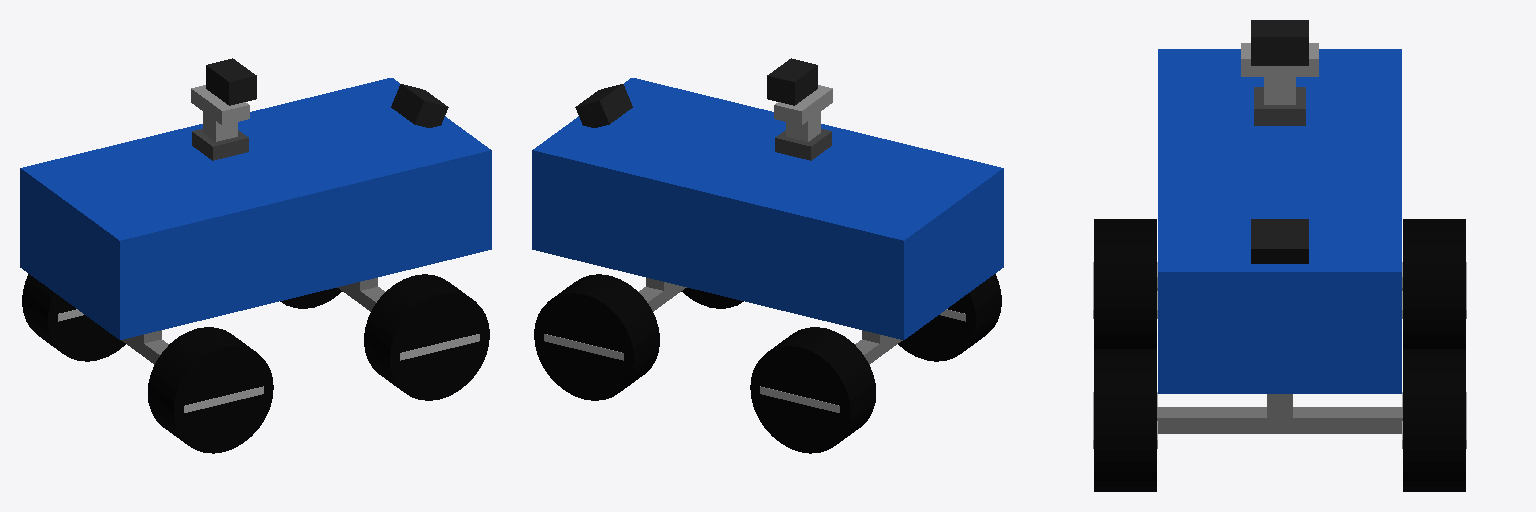
The robot description file, URDF, robot "xtnetrc":
<?xml version="1.0" ?>
<!-- =================================================================================== -->
<!-- |    This document was autogenerated by xacro from /home/jamiek/remote5g_ws/src/remote5g_sim/urdf/car.xacro | -->
<!-- |    EDITING THIS FILE BY HAND IS NOT RECOMMENDED                                 | -->
<!-- =================================================================================== -->
<robot name="xtnetrc">
	<link name="base_footprint">
		<inertial>
			<mass value="0.001"/>
			<inertia ixx="0.000001" ixy="0" ixz="0" iyy="0.000001" iyz="0" izz="0.000001"/>
		</inertial>
	</link>
	<link name="base_link">
		<inertial>
			<origin xyz="0.119305 0 0.115"/>
			<mass value="3.0"/>
			<inertia ixx="0.01178125" ixy="0" ixz="0" iyy="0.044781249999999995" iyz="0" izz="0.05104999999999999"/>
		</inertial>
		<visual>
			<origin xyz="0.119305 0 0.115"/>
			<geometry>
				<box size="0.41 0.19 0.105"/>
			</geometry>
			<material name="base_link_material">
				<color rgba="0.1 0.35 0.75 1"/>
			</material>
		</visual>
		<collision>
			<origin xyz="0.119305 0 0.115"/>
			<geometry>
				<box size="0.41 0.19 0.105"/>
			</geometry>
		</collision>
	</link>
	<joint name="base_joint" type="fixed">
		<parent link="base_footprint"/>
		<child link="base_link"/>
		<origin rpy="0 0 0" xyz="0 0 0.055315"/>
	</joint>
	<gazebo reference="base_joint">
		<preserveFixedJoint>true</preserveFixedJoint>
	</gazebo>
	<gazebo reference="base_link">
		<material>Gazebo/Blue</material>
	</gazebo>
	<link name="rear_axle_beam">
		<inertial>
			<origin xyz="0 0 0"/>
			<mass value="0.04"/>
			<inertia ixx="0.00016198666666666667" ixy="0" ixz="0" iyy="1.986666666666667e-06" iyz="0" izz="0.00016266666666666667"/>
		</inertial>
		<visual>
			<origin xyz="0 0 0"/>
			<geometry>
				<box size="0.02 0.22 0.014"/>
			</geometry>
			<material name="rear_axle_beam_material">
				<color rgba="0.5 0.5 0.5 1"/>
			</material>
		</visual>
		<collision>
			<origin xyz="0 0 0"/>
			<geometry>
				<box size="0.02 0.22 0.014"/>
			</geometry>
		</collision>
	</link>
	<joint name="rear_axle_beam_mount" type="fixed">
		<parent link="base_link"/>
		<child link="rear_axle_beam"/>
		<origin rpy="0 0 0" xyz="0 0 0"/>
	</joint>
	<link name="rear_axle_post">
		<inertial>
			<origin xyz="0 0 0"/>
			<mass value="0.03"/>
			<inertia ixx="1.3250000000000002e-05" ixy="0" ixz="0" iyy="1.3250000000000002e-05" iyz="0" izz="2e-06"/>
		</inertial>
		<visual>
			<origin xyz="0 0 0"/>
			<geometry>
				<box size="0.02 0.02 0.07"/>
			</geometry>
			<material name="rear_axle_post_material">
				<color rgba="0.5 0.5 0.5 1"/>
			</material>
		</visual>
		<collision>
			<origin xyz="0 0 0"/>
			<geometry>
				<box size="0.02 0.02 0.07"/>
			</geometry>
		</collision>
	</link>
	<joint name="rear_axle_post_mount" type="fixed">
		<parent link="base_link"/>
		<child link="rear_axle_post"/>
		<origin rpy="0 0 0" xyz="0 0 0.035"/>
	</joint>
	<link name="front_axle_beam">
		<inertial>
			<origin xyz="0 0 0"/>
			<mass value="0.04"/>
			<inertia ixx="0.00016198666666666667" ixy="0" ixz="0" iyy="1.986666666666667e-06" iyz="0" izz="0.00016266666666666667"/>
		</inertial>
		<visual>
			<origin xyz="0 0 0"/>
			<geometry>
				<box size="0.02 0.22 0.014"/>
			</geometry>
			<material name="front_axle_beam_material">
				<color rgba="0.5 0.5 0.5 1"/>
			</material>
		</visual>
		<collision>
			<origin xyz="0 0 0"/>
			<geometry>
				<box size="0.02 0.22 0.014"/>
			</geometry>
		</collision>
	</link>
	<joint name="front_axle_beam_mount" type="fixed">
		<parent link="base_link"/>
		<child link="front_axle_beam"/>
		<origin rpy="0 0 0" xyz="0.23861 0 0"/>
	</joint>
	<link name="front_axle_post">
		<inertial>
			<origin xyz="0 0 0"/>
			<mass value="0.03"/>
			<inertia ixx="1.3250000000000002e-05" ixy="0" ixz="0" iyy="1.3250000000000002e-05" iyz="0" izz="2e-06"/>
		</inertial>
		<visual>
			<origin xyz="0 0 0"/>
			<geometry>
				<box size="0.02 0.02 0.07"/>
			</geometry>
			<material name="front_axle_post_material">
				<color rgba="0.5 0.5 0.5 1"/>
			</material>
		</visual>
		<collision>
			<origin xyz="0 0 0"/>
			<geometry>
				<box size="0.02 0.02 0.07"/>
			</geometry>
		</collision>
	</link>
	<joint name="front_axle_post_mount" type="fixed">
		<parent link="base_link"/>
		<child link="front_axle_post"/>
		<origin rpy="0 0 0" xyz="0.23861 0 0.035"/>
	</joint>
	<link name="front_left_knuckle">
		<inertial>
			<origin xyz="0 0 0"/>
			<mass value="0.06"/>
			<inertia ixx="6.119999999999999e-06" ixy="0" ixz="0" iyy="6.119999999999999e-06" iyz="0" izz="3.2399999999999995e-06"/>
		</inertial>
		<visual>
			<origin xyz="0 0 0"/>
			<geometry>
				<box size="0.018 0.018 0.03"/>
			</geometry>
			<material name="front_left_knuckle_material">
				<color rgba="0.2 0.3 0.8 1"/>
			</material>
		</visual>
		<collision>
			<origin xyz="0 0 0"/>
			<geometry>
				<box size="0.018 0.018 0.03"/>
			</geometry>
		</collision>
	</link>
	<joint name="front_left_steering_joint" type="revolute">
		<parent link="base_link"/>
		<child link="front_left_knuckle"/>
		<origin xyz="0.23861 0.12 0"/>
		<axis xyz="0 0 1"/>
		<limit effort="1.0" lower="-0.6" upper="0.6" velocity="4"/>
		<dynamics damping="0.01"/>
	</joint>
	<link name="front_left_wheel">
		<inertial>
			<mass value="0.18"/>
			<inertia ixx="0.000174472171125" ixy="0" ixz="0" iyy="0.00027537743025" iyz="0" izz="0.000174472171125"/>
		</inertial>
		<visual>
			<origin rpy="1.5707963267948966 0 0"/>
			<geometry>
				<cylinder length="0.04952" radius="0.055315"/>
			</geometry>
			<material name="rubber">
				<color rgba="0.06 0.06 0.06 1"/>
			</material>
		</visual>
		<visual>
			<geometry>
				<box size="0.08850400000000001 0.05052 0.008"/>
			</geometry>
			<material name="rim">
				<color rgba="0.7 0.7 0.7 1"/>
			</material>
		</visual>
		<collision>
			<origin rpy="1.5707963267948966 0 0"/>
			<geometry>
				<cylinder length="0.04952" radius="0.055315"/>
			</geometry>
		</collision>
	</link>
	<joint name="front_left_wheel_joint" type="continuous">
		<parent link="front_left_knuckle"/>
		<child link="front_left_wheel"/>
		<origin xyz="0 0 0"/>
		<axis xyz="0 1 0"/>
		<limit effort="2" velocity="50"/>
		<dynamics damping="0.0005" friction="0"/>
	</joint>
	<gazebo reference="front_left_wheel">
		<material>Gazebo/Black</material>
		<mu1>1.0</mu1>
		<mu2>1.0</mu2>
		<kp>1000000.0</kp>
		<kd>10.0</kd>
		<minDepth>0.0001</minDepth>
		<maxVel>0.1</maxVel>
	</gazebo>
	<link name="front_right_knuckle">
		<inertial>
			<origin xyz="0 0 0"/>
			<mass value="0.06"/>
			<inertia ixx="6.119999999999999e-06" ixy="0" ixz="0" iyy="6.119999999999999e-06" iyz="0" izz="3.2399999999999995e-06"/>
		</inertial>
		<visual>
			<origin xyz="0 0 0"/>
			<geometry>
				<box size="0.018 0.018 0.03"/>
			</geometry>
			<material name="front_right_knuckle_material">
				<color rgba="0.2 0.3 0.8 1"/>
			</material>
		</visual>
		<collision>
			<origin xyz="0 0 0"/>
			<geometry>
				<box size="0.018 0.018 0.03"/>
			</geometry>
		</collision>
	</link>
	<joint name="front_right_steering_joint" type="revolute">
		<parent link="base_link"/>
		<child link="front_right_knuckle"/>
		<origin xyz="0.23861 -0.12 0"/>
		<axis xyz="0 0 1"/>
		<limit effort="1.0" lower="-0.6" upper="0.6" velocity="4"/>
		<dynamics damping="0.01"/>
	</joint>
	<link name="front_right_wheel">
		<inertial>
			<mass value="0.18"/>
			<inertia ixx="0.000174472171125" ixy="0" ixz="0" iyy="0.00027537743025" iyz="0" izz="0.000174472171125"/>
		</inertial>
		<visual>
			<origin rpy="1.5707963267948966 0 0"/>
			<geometry>
				<cylinder length="0.04952" radius="0.055315"/>
			</geometry>
			<material name="rubber">
				<color rgba="0.06 0.06 0.06 1"/>
			</material>
		</visual>
		<visual>
			<geometry>
				<box size="0.08850400000000001 0.05052 0.008"/>
			</geometry>
			<material name="rim">
				<color rgba="0.7 0.7 0.7 1"/>
			</material>
		</visual>
		<collision>
			<origin rpy="1.5707963267948966 0 0"/>
			<geometry>
				<cylinder length="0.04952" radius="0.055315"/>
			</geometry>
		</collision>
	</link>
	<joint name="front_right_wheel_joint" type="continuous">
		<parent link="front_right_knuckle"/>
		<child link="front_right_wheel"/>
		<origin xyz="0 0 0"/>
		<axis xyz="0 1 0"/>
		<limit effort="2" velocity="50"/>
		<dynamics damping="0.0005" friction="0"/>
	</joint>
	<gazebo reference="front_right_wheel">
		<material>Gazebo/Black</material>
		<mu1>1.0</mu1>
		<mu2>1.0</mu2>
		<kp>1000000.0</kp>
		<kd>10.0</kd>
		<minDepth>0.0001</minDepth>
		<maxVel>0.1</maxVel>
	</gazebo>
	<link name="rear_left_wheel">
		<inertial>
			<mass value="0.18"/>
			<inertia ixx="0.000174472171125" ixy="0" ixz="0" iyy="0.00027537743025" iyz="0" izz="0.000174472171125"/>
		</inertial>
		<visual>
			<origin rpy="1.5707963267948966 0 0"/>
			<geometry>
				<cylinder length="0.04952" radius="0.055315"/>
			</geometry>
			<material name="rubber">
				<color rgba="0.06 0.06 0.06 1"/>
			</material>
		</visual>
		<visual>
			<geometry>
				<box size="0.08850400000000001 0.05052 0.008"/>
			</geometry>
			<material name="rim">
				<color rgba="0.7 0.7 0.7 1"/>
			</material>
		</visual>
		<collision>
			<origin rpy="1.5707963267948966 0 0"/>
			<geometry>
				<cylinder length="0.04952" radius="0.055315"/>
			</geometry>
		</collision>
	</link>
	<joint name="rear_left_wheel_joint" type="continuous">
		<parent link="base_link"/>
		<child link="rear_left_wheel"/>
		<origin xyz="0 0.12 0"/>
		<axis xyz="0 1 0"/>
		<limit effort="2" velocity="50"/>
		<dynamics damping="0.0005" friction="0"/>
	</joint>
	<gazebo reference="rear_left_wheel">
		<material>Gazebo/Black</material>
		<mu1>1.0</mu1>
		<mu2>1.0</mu2>
		<kp>1000000.0</kp>
		<kd>10.0</kd>
		<minDepth>0.0001</minDepth>
		<maxVel>0.1</maxVel>
	</gazebo>
	<link name="rear_right_wheel">
		<inertial>
			<mass value="0.18"/>
			<inertia ixx="0.000174472171125" ixy="0" ixz="0" iyy="0.00027537743025" iyz="0" izz="0.000174472171125"/>
		</inertial>
		<visual>
			<origin rpy="1.5707963267948966 0 0"/>
			<geometry>
				<cylinder length="0.04952" radius="0.055315"/>
			</geometry>
			<material name="rubber">
				<color rgba="0.06 0.06 0.06 1"/>
			</material>
		</visual>
		<visual>
			<geometry>
				<box size="0.08850400000000001 0.05052 0.008"/>
			</geometry>
			<material name="rim">
				<color rgba="0.7 0.7 0.7 1"/>
			</material>
		</visual>
		<collision>
			<origin rpy="1.5707963267948966 0 0"/>
			<geometry>
				<cylinder length="0.04952" radius="0.055315"/>
			</geometry>
		</collision>
	</link>
	<joint name="rear_right_wheel_joint" type="continuous">
		<parent link="base_link"/>
		<child link="rear_right_wheel"/>
		<origin xyz="0 -0.12 0"/>
		<axis xyz="0 1 0"/>
		<limit effort="2" velocity="50"/>
		<dynamics damping="0.0005" friction="0"/>
	</joint>
	<gazebo reference="rear_right_wheel">
		<material>Gazebo/Black</material>
		<mu1>1.0</mu1>
		<mu2>1.0</mu2>
		<kp>1000000.0</kp>
		<kd>10.0</kd>
		<minDepth>0.0001</minDepth>
		<maxVel>0.1</maxVel>
	</gazebo>
	<link name="front_camera_link">
		<inertial>
			<origin xyz="0 0 0"/>
			<mass value="0.05"/>
			<inertia ixx="1.1041666666666666e-05" ixy="0" ixz="0" iyy="6.3541666666666675e-06" iyz="0" izz="1.2187499999999998e-05"/>
		</inertial>
		<visual>
			<origin xyz="0 0 0"/>
			<geometry>
				<box size="0.03 0.045 0.025"/>
			</geometry>
			<material name="front_camera_link_material">
				<color rgba="0.15 0.15 0.15 1"/>
			</material>
		</visual>
		<collision>
			<origin xyz="0 0 0"/>
			<geometry>
				<box size="0.03 0.045 0.025"/>
			</geometry>
		</collision>
	</link>
	<joint name="front_camera_mount" type="fixed">
		<parent link="base_link"/>
		<child link="front_camera_link"/>
		<origin rpy="0 0.45 0" xyz="0.3 0.0 0.18"/>
	</joint>
	<link name="front_camera_optical_frame"/>
	<joint name="front_optical_joint" type="fixed">
		<parent link="front_camera_link"/>
		<child link="front_camera_optical_frame"/>
		<origin rpy="-1.5707963267948966 0 -1.5707963267948966" xyz="0 0 0"/>
	</joint>
	<gazebo reference="front_camera_link">
		<material>Gazebo/Black</material>
		<sensor name="front_rgb" type="camera">
			<always_on>true</always_on>
			<update_rate>30.0</update_rate>
			<visualize>false</visualize>
			<camera>
				<horizontal_fov>1.3962634015954636</horizontal_fov>
				<image>
					<width>640</width>
					<height>480</height>
					<format>R8G8B8</format>
				</image>
				<clip>
					<near>0.02</near>
					<far>100</far>
				</clip>
			</camera>
			<plugin filename="libgazebo_ros_camera.so" name="front_camera_ros">
				<ros>
					<namespace>/camera/front</namespace>
					<remapping>front/image_raw:=image_raw</remapping>
					<remapping>front/camera_info:=camera_info</remapping>
				</ros>
				<camera_name>front</camera_name>
				<frame_name>front_camera_optical_frame</frame_name>
			</plugin>
		</sensor>
	</gazebo>
	<link name="gimbal_base">
		<inertial>
			<origin xyz="0 0 0"/>
			<mass value="0.04"/>
			<inertia ixx="6.083333333333333e-06" ixy="0" ixz="0" iyy="6.083333333333333e-06" iyz="0" izz="1.0666666666666669e-05"/>
		</inertial>
		<visual>
			<origin xyz="0 0 0"/>
			<geometry>
				<box size="0.04 0.04 0.015"/>
			</geometry>
			<material name="gimbal_base_material">
				<color rgba="0.3 0.3 0.3 1"/>
			</material>
		</visual>
		<collision>
			<origin xyz="0 0 0"/>
			<geometry>
				<box size="0.04 0.04 0.015"/>
			</geometry>
		</collision>
	</link>
	<joint name="gimbal_mount" type="fixed">
		<parent link="base_link"/>
		<child link="gimbal_base"/>
		<origin rpy="0 0 0" xyz="0.08 0.0 0.195"/>
	</joint>
	<link name="gimbal_pan_link">
		<inertial>
			<origin xyz="0 0 0.012"/>
			<mass value="0.04"/>
			<inertia ixx="4.166666666666668e-06" ixy="0" ixz="0" iyy="4.166666666666668e-06" iyz="0" izz="4.166666666666668e-06"/>
		</inertial>
		<visual>
			<origin xyz="0 0 0.012"/>
			<geometry>
				<box size="0.025 0.025 0.025"/>
			</geometry>
			<material name="gimbal_pan_link_material">
				<color rgba="0.6 0.6 0.6 1"/>
			</material>
		</visual>
		<collision>
			<origin xyz="0 0 0.012"/>
			<geometry>
				<box size="0.025 0.025 0.025"/>
			</geometry>
		</collision>
	</link>
	<joint name="gimbal_pan_joint" type="revolute">
		<parent link="gimbal_base"/>
		<child link="gimbal_pan_link"/>
		<origin xyz="0 0 0.008"/>
		<axis xyz="0 0 1"/>
		<limit effort="0.15" lower="-1.5707963267948966" upper="1.5707963267948966" velocity="1.0"/>
		<dynamics damping="0.001"/>
	</joint>
	<link name="gimbal_tilt_link">
		<inertial>
			<origin xyz="0 0 0"/>
			<mass value="0.04"/>
			<inertia ixx="1.275e-05" ixy="0" ixz="0" iyy="3.7499999999999997e-06" iyz="0" izz="1.4999999999999999e-05"/>
		</inertial>
		<visual>
			<origin xyz="0 0 0"/>
			<geometry>
				<box size="0.03 0.06 0.015"/>
			</geometry>
			<material name="gimbal_tilt_link_material">
				<color rgba="0.6 0.6 0.6 1"/>
			</material>
		</visual>
		<collision>
			<origin xyz="0 0 0"/>
			<geometry>
				<box size="0.03 0.06 0.015"/>
			</geometry>
		</collision>
	</link>
	<joint name="gimbal_tilt_joint" type="revolute">
		<parent link="gimbal_pan_link"/>
		<child link="gimbal_tilt_link"/>
		<origin xyz="0 0 0.032"/>
		<axis xyz="0 -1 0"/>
		<limit effort="0.15" lower="-0.6" upper="0.8" velocity="1.0"/>
		<dynamics damping="0.001"/>
	</joint>
	<link name="gimbal_camera_link">
		<inertial>
			<origin xyz="0 0 0"/>
			<mass value="0.05"/>
			<inertia ixx="1.1041666666666666e-05" ixy="0" ixz="0" iyy="6.3541666666666675e-06" iyz="0" izz="1.2187499999999998e-05"/>
		</inertial>
		<visual>
			<origin xyz="0 0 0"/>
			<geometry>
				<box size="0.03 0.045 0.025"/>
			</geometry>
			<material name="gimbal_camera_link_material">
				<color rgba="0.15 0.15 0.15 1"/>
			</material>
		</visual>
		<collision>
			<origin xyz="0 0 0"/>
			<geometry>
				<box size="0.03 0.045 0.025"/>
			</geometry>
		</collision>
	</link>
	<joint name="gimbal_camera_mount" type="fixed">
		<parent link="gimbal_tilt_link"/>
		<child link="gimbal_camera_link"/>
		<origin rpy="0 0 0" xyz="0.012 0 0.02"/>
	</joint>
	<link name="gimbal_camera_optical_frame"/>
	<joint name="gimbal_optical_joint" type="fixed">
		<parent link="gimbal_camera_link"/>
		<child link="gimbal_camera_optical_frame"/>
		<origin rpy="-1.5707963267948966 0 -1.5707963267948966" xyz="0 0 0"/>
	</joint>
	<gazebo reference="gimbal_camera_link">
		<material>Gazebo/Black</material>
		<sensor name="gimbal_rgb" type="camera">
			<always_on>true</always_on>
			<update_rate>15.0</update_rate>
			<visualize>false</visualize>
			<camera>
				<horizontal_fov>1.2217304763960306</horizontal_fov>
				<image>
					<width>640</width>
					<height>480</height>
					<format>R8G8B8</format>
				</image>
				<clip>
					<near>0.02</near>
					<far>100</far>
				</clip>
			</camera>
			<plugin filename="libgazebo_ros_camera.so" name="gimbal_camera_ros">
				<ros>
					<namespace>/camera/gimbal</namespace>
					<remapping>gimbal/image_raw:=image_raw</remapping>
					<remapping>gimbal/camera_info:=camera_info</remapping>
				</ros>
				<camera_name>gimbal</camera_name>
				<frame_name>gimbal_camera_optical_frame</frame_name>
			</plugin>
		</sensor>
	</gazebo>
	<gazebo>
		<plugin filename="libremote5g_vehicle.so" name="xtnetrc_control">
			<ros>
				<namespace>/</namespace>
			</ros>
			<wheelbase>0.23861</wheelbase>
			<front_track>0.24</front_track>
			<wheel_radius>0.055315</wheel_radius>
			<max_steering>0.4363323129985824</max_steering>
			<joint_steering_limit>0.6</joint_steering_limit>
			<max_speed>0.6</max_speed>
			<steering_rate>2.0943951023931953</steering_rate>
			<max_accel>0.8</max_accel>
			<max_decel>1.2</max_decel>
			<curvature_speed_gain>0.8</curvature_speed_gain>
			<min_curve_speed>0.18</min_curve_speed>
			<command_timeout>0.3</command_timeout>
			<control_period>0.02</control_period>
			<steering_kp>8.0</steering_kp>
			<steering_kd>0.15</steering_kd>
			<steering_torque>1.0</steering_torque>
			<drive_kp>1.5</drive_kp>
			<drive_torque>0.6</drive_torque>
			<pan_limit>1.5707963267948966</pan_limit>
			<tilt_min>-0.6</tilt_min>
			<tilt_max>0.8</tilt_max>
			<gimbal_rate>1.0</gimbal_rate>
			<gimbal_kp>1.0</gimbal_kp>
			<gimbal_kd>0.03</gimbal_kd>
			<gimbal_torque>0.15</gimbal_torque>
		</plugin>
	</gazebo>
</robot>

--- Facts derived from the render (not from the file) ---
The picture shows the robot from 3 angles, left to right: view 1: azimuth 30°, elevation 25°; view 2: azimuth 150°, elevation 25°; view 3: azimuth 270°, elevation 25°; orthographic projection.
Model xtnetrc with 19 links and 18 joints (4 revolute, 4 continuous, 10 fixed), rooted at base_footprint, posed all joints at 0.
Links seen in each view (by area): view 1: base_link, front_right_wheel, rear_right_wheel, rear_left_wheel, gimbal_camera_link, front_camera_link, gimbal_tilt_link, gimbal_base, front_left_wheel, gimbal_pan_link, front_axle_beam, rear_axle_beam; view 2: base_link, front_left_wheel, rear_left_wheel, rear_right_wheel, gimbal_camera_link, front_camera_link, gimbal_tilt_link, gimbal_base, front_right_wheel, gimbal_pan_link, front_axle_beam, rear_axle_beam; view 3: base_link, front_left_wheel, front_right_wheel, rear_left_wheel, rear_right_wheel, front_axle_beam, gimbal_camera_link, front_camera_link, gimbal_base, gimbal_tilt_link, gimbal_pan_link, front_axle_post.
Link boxes in pixels (x1,y1,x2,y2): base_link: (20, 78, 491, 339); front_right_wheel: (364, 274, 489, 400); rear_right_wheel: (148, 327, 273, 453); rear_left_wheel: (22, 274, 125, 361); gimbal_camera_link: (206, 58, 256, 105); front_camera_link: (391, 84, 448, 127); gimbal_tilt_link: (191, 85, 249, 125); gimbal_base: (192, 129, 248, 160); front_left_wheel: (280, 288, 342, 308); gimbal_pan_link: (203, 112, 237, 141); front_axle_beam: (337, 284, 384, 311); rear_axle_beam: (121, 337, 168, 364); base_link: (532, 78, 1003, 339); front_left_wheel: (534, 274, 659, 400); rear_left_wheel: (750, 327, 875, 453); rear_right_wheel: (898, 274, 1001, 361); gimbal_camera_link: (767, 58, 817, 105); front_camera_link: (575, 84, 632, 127); gimbal_tilt_link: (774, 85, 832, 125); gimbal_base: (775, 129, 831, 160); front_right_wheel: (681, 288, 743, 308); gimbal_pan_link: (786, 112, 820, 141); front_axle_beam: (639, 284, 686, 311); rear_axle_beam: (855, 337, 902, 364); base_link: (1158, 49, 1401, 393); front_left_wheel: (1402, 349, 1466, 491); front_right_wheel: (1093, 349, 1157, 491); rear_left_wheel: (1402, 219, 1466, 348); rear_right_wheel: (1093, 219, 1157, 348); front_axle_beam: (1157, 407, 1402, 433); gimbal_camera_link: (1251, 20, 1308, 65); front_camera_link: (1251, 219, 1308, 263); gimbal_base: (1254, 87, 1305, 125); gimbal_tilt_link: (1241, 43, 1318, 76); gimbal_pan_link: (1264, 77, 1295, 104); front_axle_post: (1267, 394, 1292, 425).
Bounding box of the posed robot: 0.41 × 0.2905 × 0.3228 m (x, y, z).
Geometry: primitives only (box / cylinder / sphere), no mesh files.
